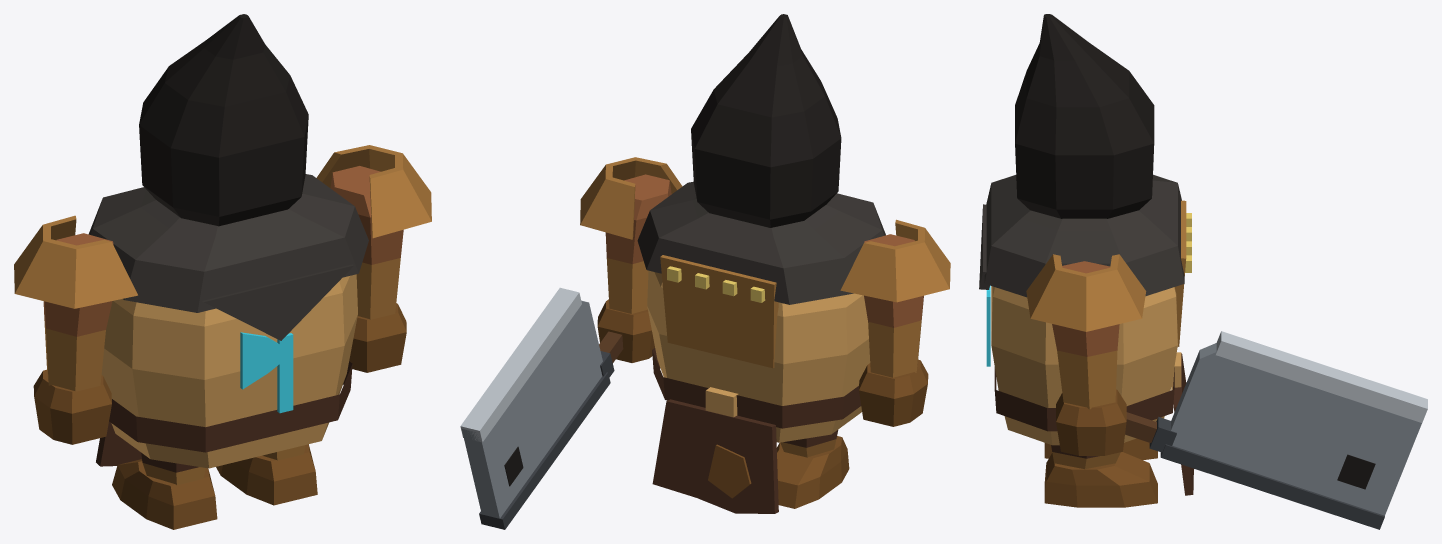
File: CH_MurderMachine_BronzeColossus.fbx
The picture shows the model from 3 angles, left to right: view 1: azimuth 30°, elevation 25°; view 2: azimuth 150°, elevation 25°; view 3: azimuth 270°, elevation 25°; orthographic projection. The views are drawn at different scales.
Parts seen in each view (by area): view 1: Body, Head, ArmL, ArmR, LegL, LegR; view 2: Body, ArmR, Head, ArmL, LegL; view 3: ArmR, Body, Head, LegR, LegL.
Part boxes in pixels (x1,y1,x2,y2): Body: [88, 174, 368, 468]; Head: [139, 14, 308, 226]; ArmL: [14, 215, 137, 444]; ArmR: [316, 145, 431, 372]; LegL: [112, 452, 217, 529]; LegR: [216, 444, 317, 505]; Body: [637, 181, 885, 513]; ArmR: [460, 157, 682, 529]; Head: [691, 14, 841, 227]; ArmL: [840, 219, 950, 426]; LegL: [776, 430, 849, 508]; ArmR: [1026, 254, 1427, 529]; Body: [979, 174, 1193, 495]; Head: [1015, 14, 1154, 218]; LegR: [1044, 445, 1157, 507]; LegL: [1044, 438, 1157, 460].
Bounding box in the file's own units: 1.93 × 1.95 × 2.2.
